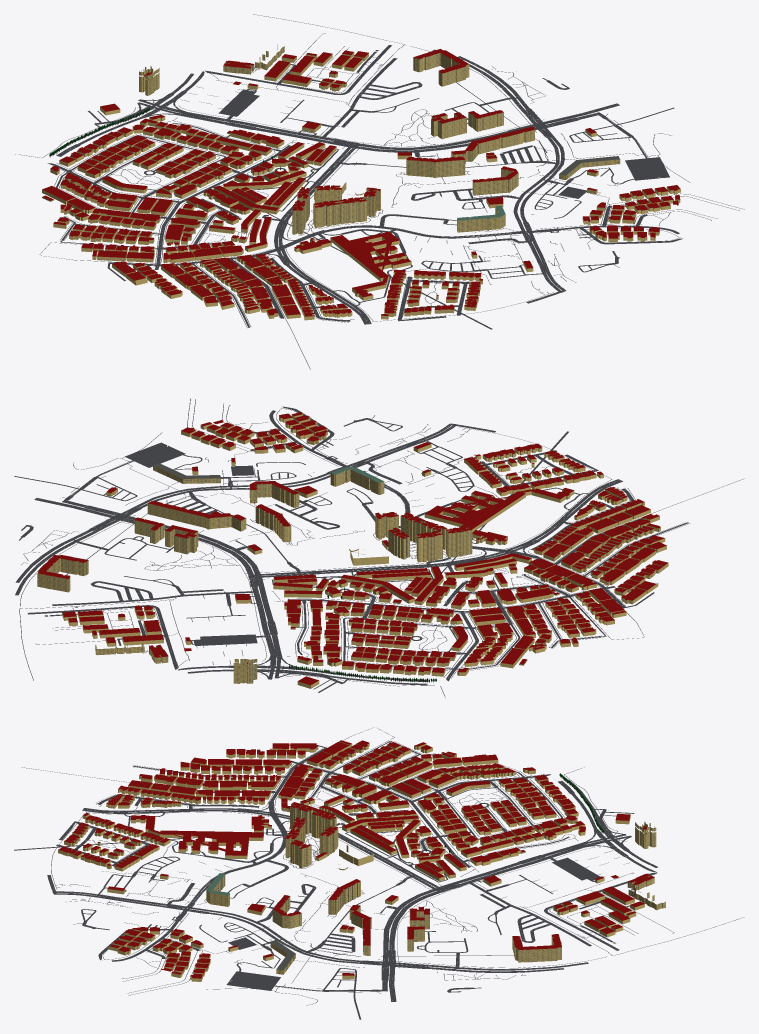
File: osm3d.glb
The picture shows the model from 3 angles, top to bottom: view 1: azimuth 30°, elevation 25°; view 2: azimuth 150°, elevation 25°; view 3: azimuth 270°, elevation 25°; orthographic projection. The views are drawn at different scales.
Visible parts, largest first — view 1: RoofingTiles010, Plaster002, ASPHALT, Windows, Concrete034; view 2: RoofingTiles010, Plaster002, ASPHALT, Windows, Concrete034, TextureAtlas 4a520269; view 3: RoofingTiles010, Plaster002, ASPHALT, Windows, Concrete034.
Boxes of the visible parts, left/top/right/bottom form: RoofingTiles010: left=42, top=49, right=680, bottom=316; Plaster002: left=42, top=45, right=680, bottom=320; ASPHALT: left=15, top=14, right=744, bottom=369; Windows: left=42, top=46, right=619, bottom=245; Concrete034: left=97, top=69, right=589, bottom=321; RoofingTiles010: left=38, top=412, right=667, bottom=685; Plaster002: left=37, top=412, right=668, bottom=688; ASPHALT: left=14, top=398, right=744, bottom=697; Windows: left=37, top=468, right=558, bottom=683; Concrete034: left=25, top=427, right=612, bottom=689; TextureAtlas 4a520269: left=289, top=587, right=436, bottom=682; RoofingTiles010: left=58, top=740, right=654, bottom=978; Plaster002: left=58, top=741, right=665, bottom=981; ASPHALT: left=14, top=727, right=744, bottom=1019; Windows: left=206, top=777, right=665, bottom=973; Concrete034: left=51, top=806, right=649, bottom=975.
Bounding box in the file's own units: 1376 × 50 × 1453.
19 materials, 19 textured.
